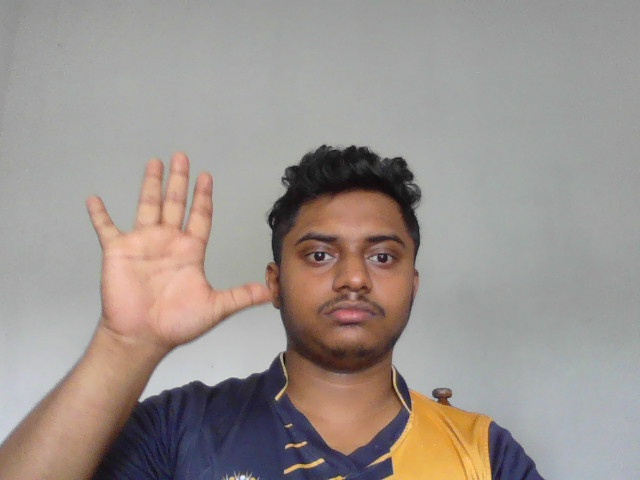Hello: (82, 149, 274, 352)
